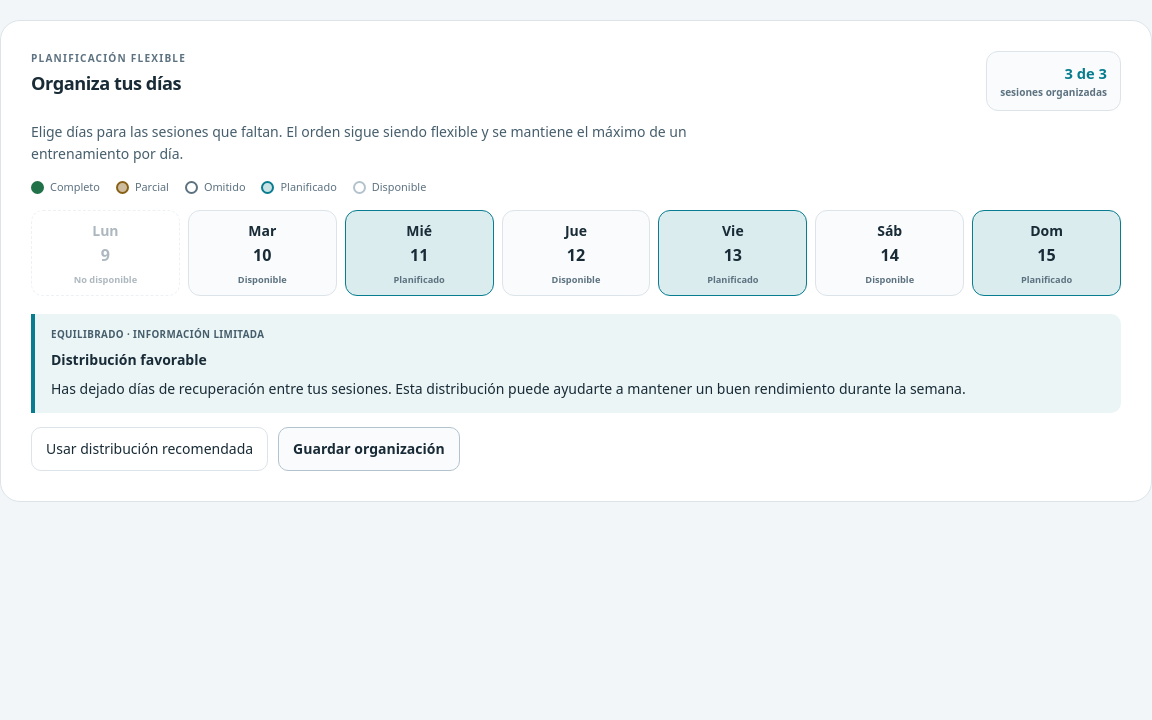
Test: WeeklyTrainingPlanner › requires confirmation before replacing a saved organization
Click the button "Usar distribución recomendada": (150, 449) x1=31 y1=427 x2=268 y2=471
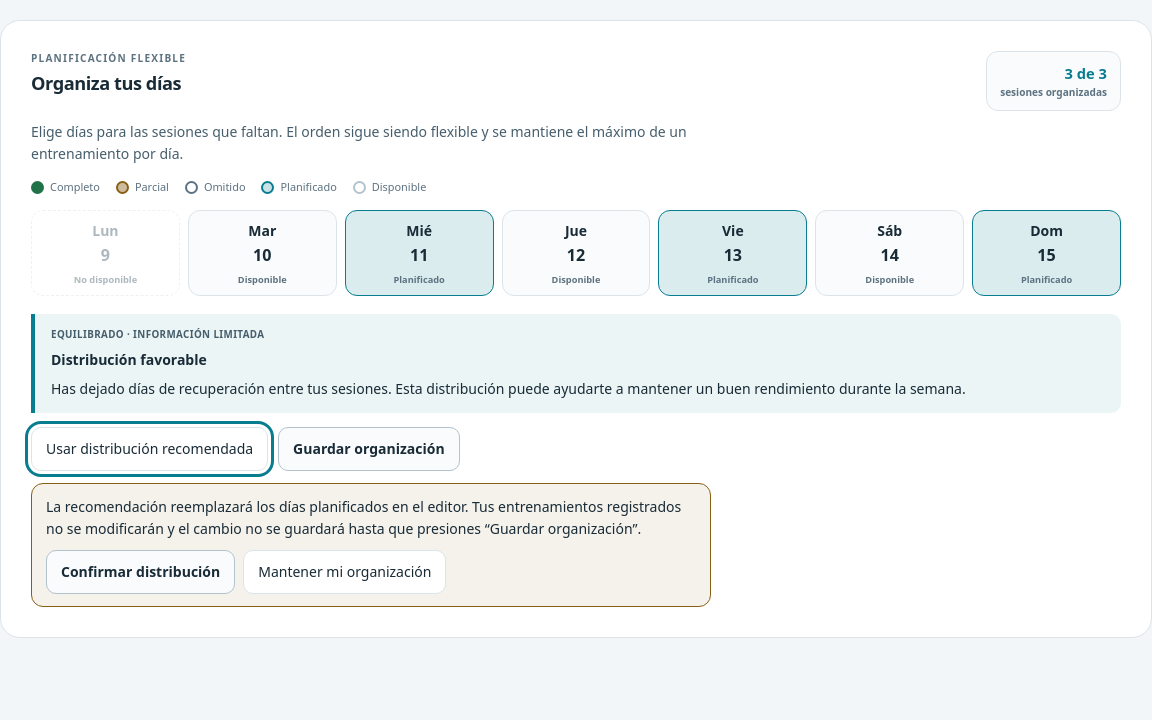
Expected: the dialog named "Confirmar distribución recomendada" is shown, x1=31 y1=483 x2=711 y2=607
